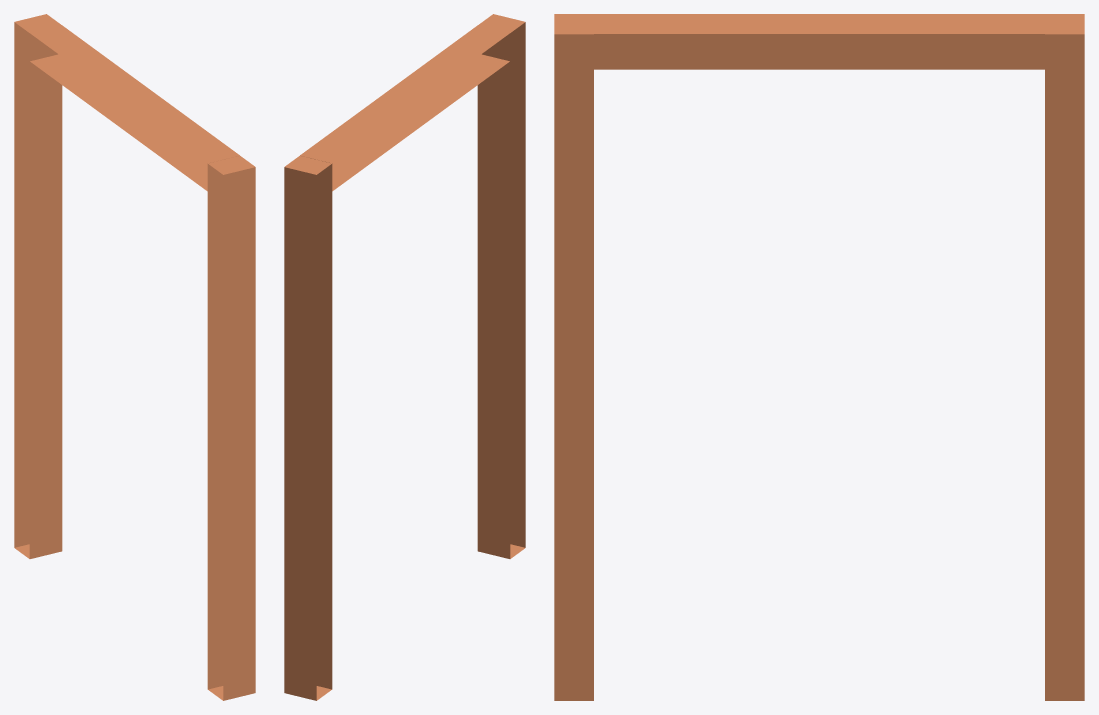
File: porta2.fbx
3 renders of one model, left to right at view 1: azimuth 30°, elevation 25°; view 2: azimuth 150°, elevation 25°; view 3: azimuth 270°, elevation 25°, orthographic. The views are drawn at different scales.
Parts seen in each view (by area): view 1: Cube; view 2: Cube; view 3: Cube.
Part boxes in pixels (box(x1,y1,x2,y2)): Cube: box(14, 14, 255, 700); Cube: box(284, 14, 525, 700); Cube: box(554, 14, 1084, 700).
Size of the model in its own units: 23.51 by 365 by 263.
